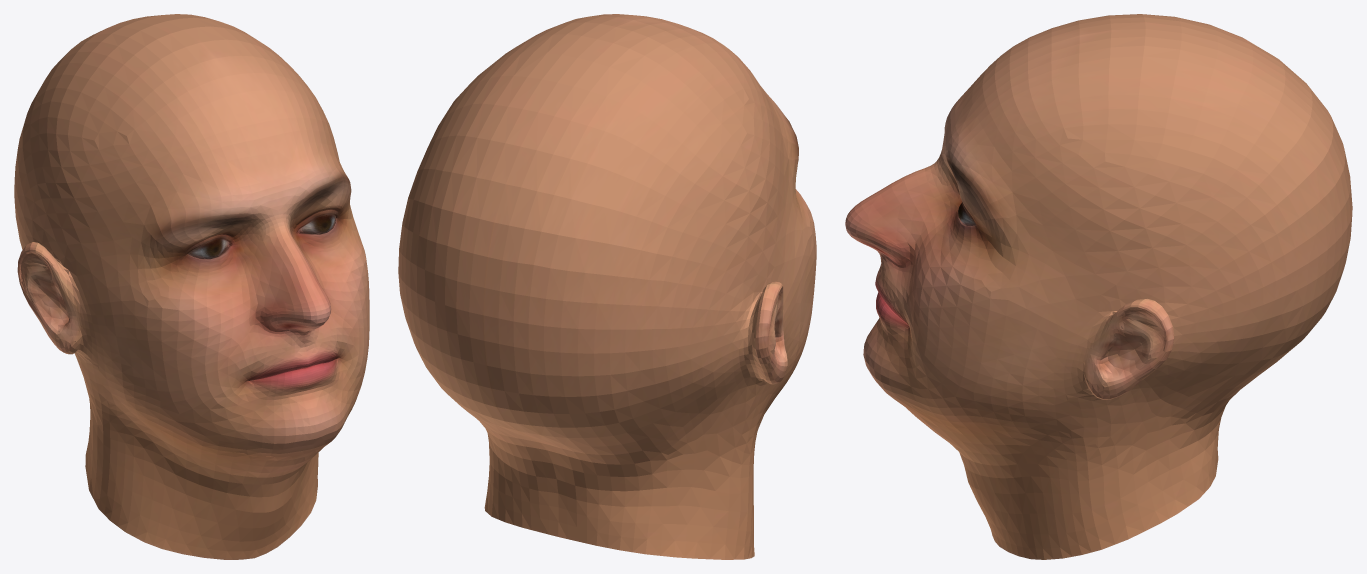
3 renders of one model, left to right at view 1: azimuth 30°, elevation 25°; view 2: azimuth 150°, elevation 25°; view 3: azimuth 270°, elevation 25°, orthographic. The views are drawn at different scales.
Parts seen in each view (by area): view 1: skin_hi, eyeR_hi, eyeL_hi; view 2: skin_hi; view 3: skin_hi.
Boxes of the visible parts, bbox=[...] form: skin_hi: bbox=[14, 14, 369, 559]; eyeR_hi: bbox=[188, 239, 229, 259]; eyeL_hi: bbox=[297, 214, 335, 234]; skin_hi: bbox=[398, 14, 816, 559]; skin_hi: bbox=[845, 14, 1352, 559].
Bounding box in the file's own units: 192 × 277 × 251.
Materials: 7 (7 with a texture image).
